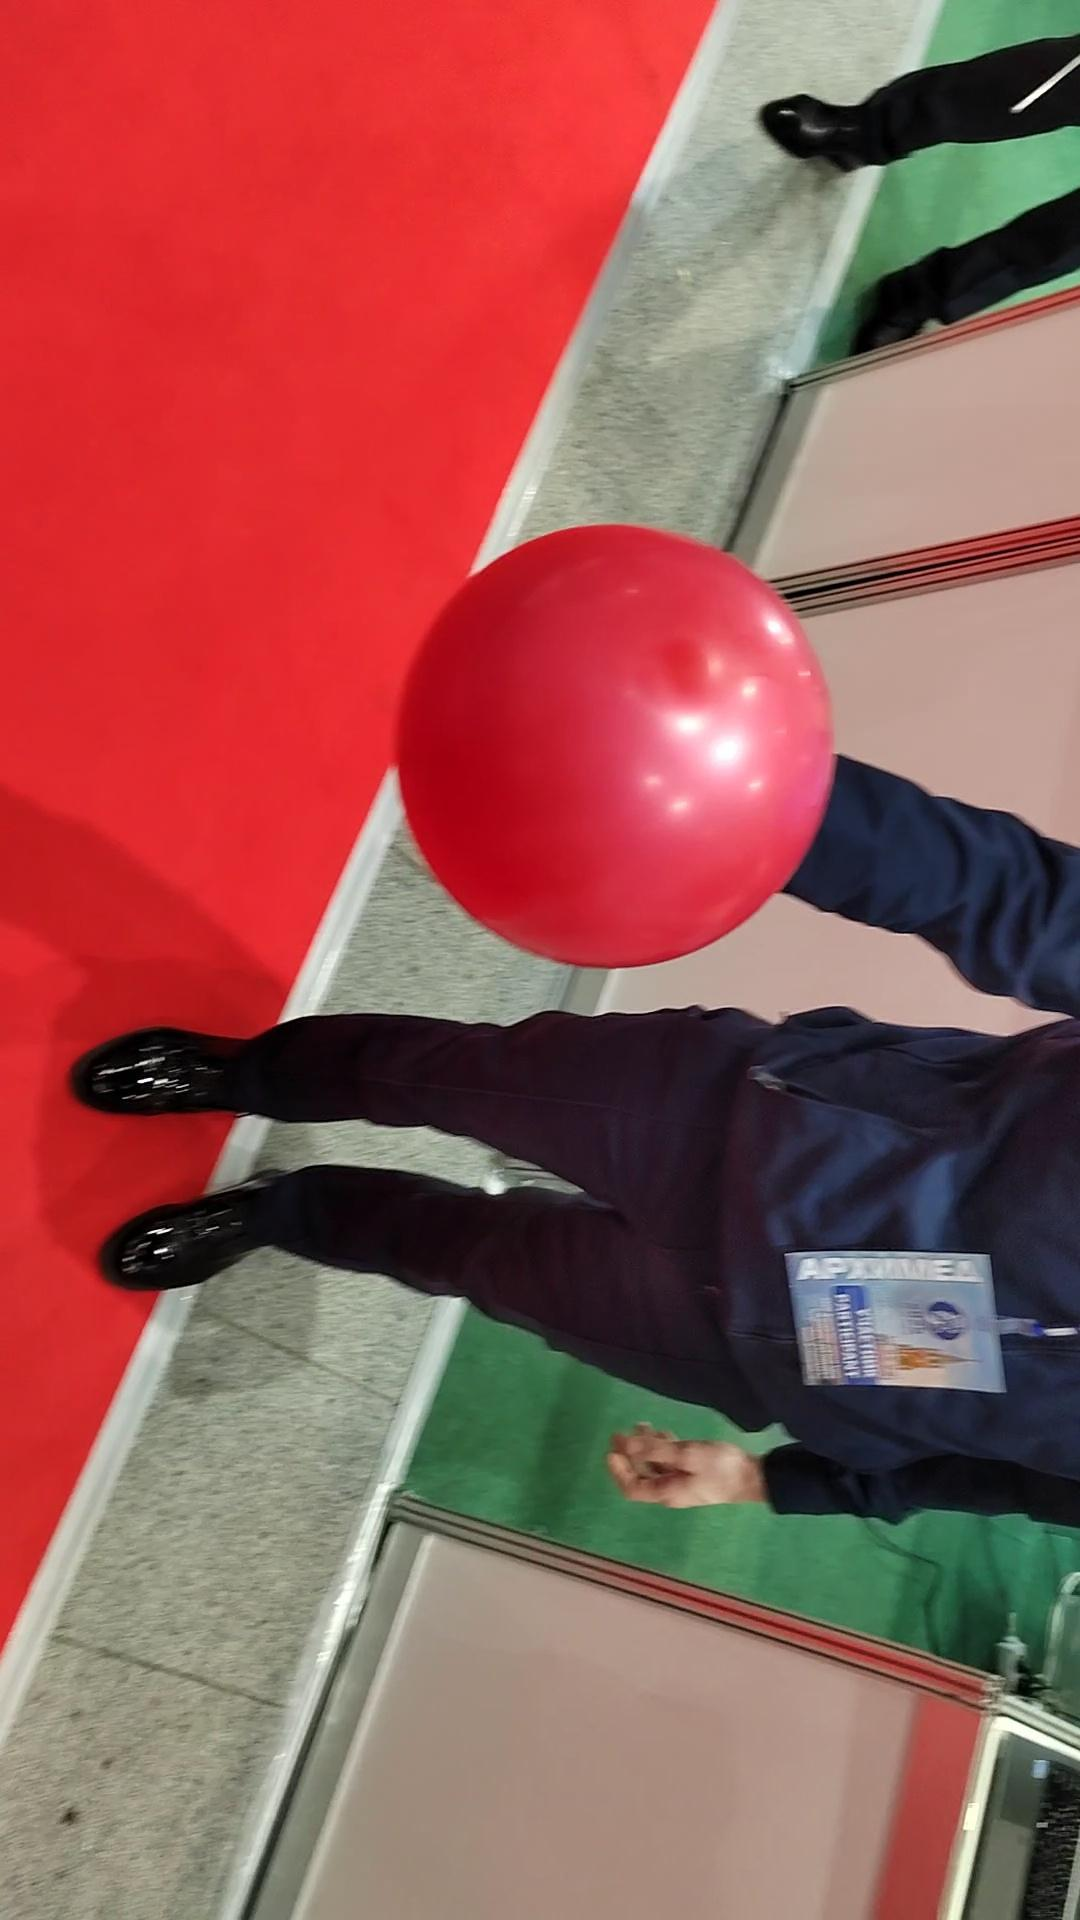red: (386, 521, 835, 977)
